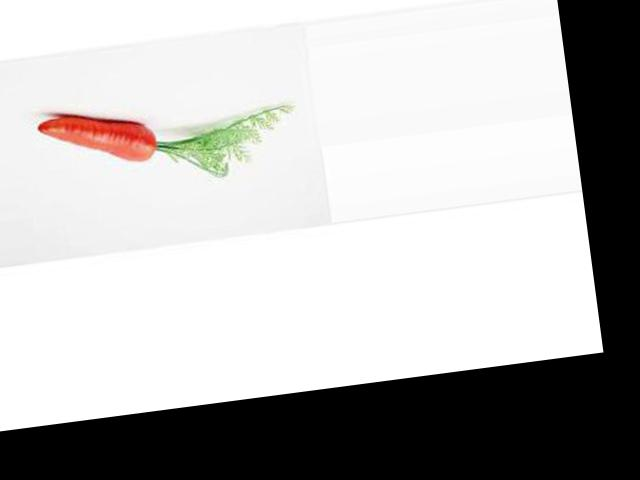carrot: (21, 90, 162, 179)
